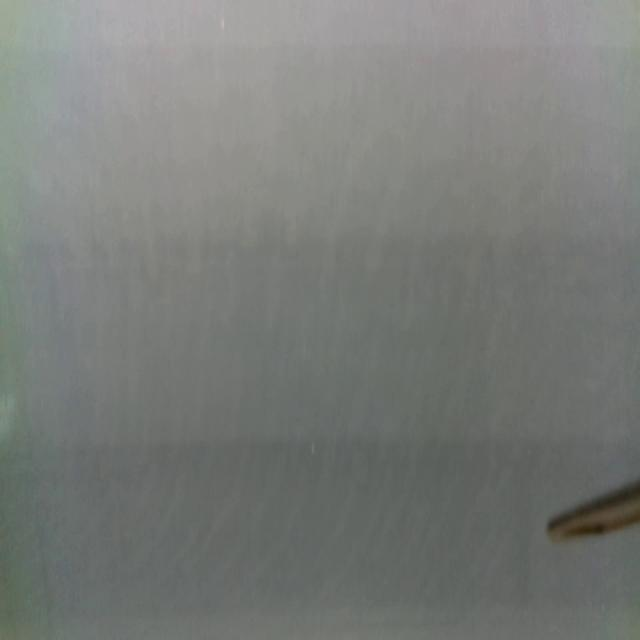color bleeding: (0, 224, 635, 312), (0, 427, 607, 498)
